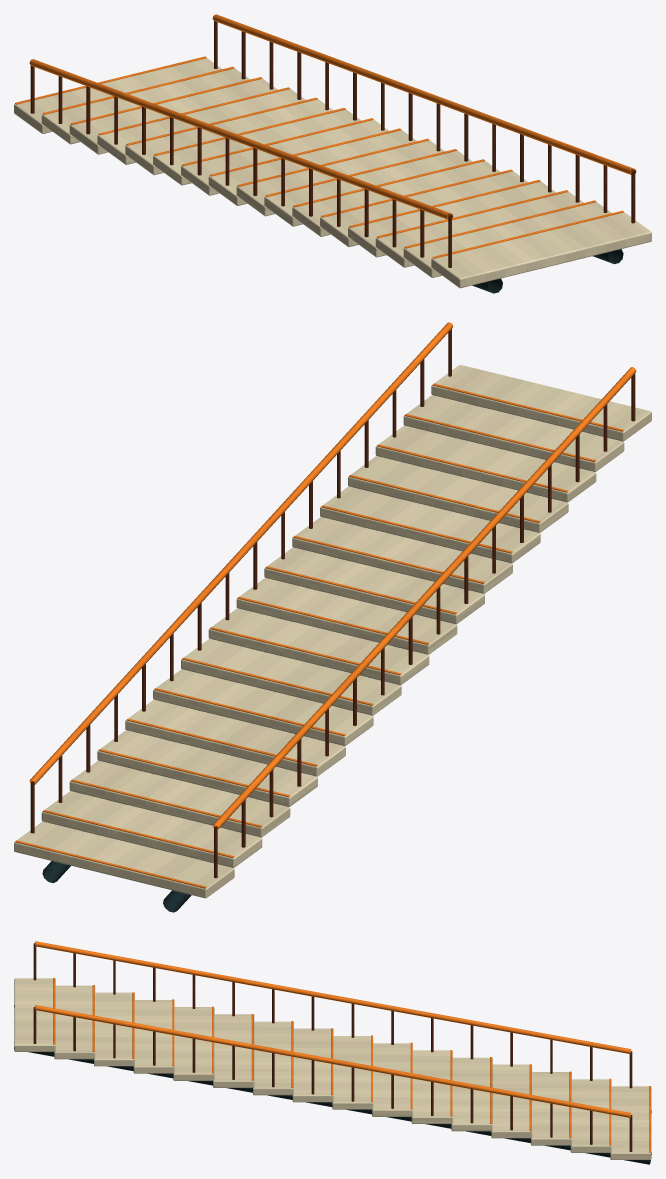
File: inverted_stair.gltf
3 views of the same model, one above another, from view 1: azimuth 30°, elevation 25°; view 2: azimuth 150°, elevation 25°; view 3: azimuth 270°, elevation 25° (orthographic). The views are drawn at different scales.
Parts seen in each view (by area): view 1: V14_inverted_stair; view 2: V14_inverted_stair; view 3: V14_inverted_stair.
Boxes of the visible parts, x1,y1,x2,y2 form: V14_inverted_stair: (14, 14, 651, 293); V14_inverted_stair: (14, 322, 651, 912); V14_inverted_stair: (14, 941, 651, 1164).
Bounding box in the file's own units: 4 × 4.71 × 16.06.
Materials: 4 (4 with a texture image).
